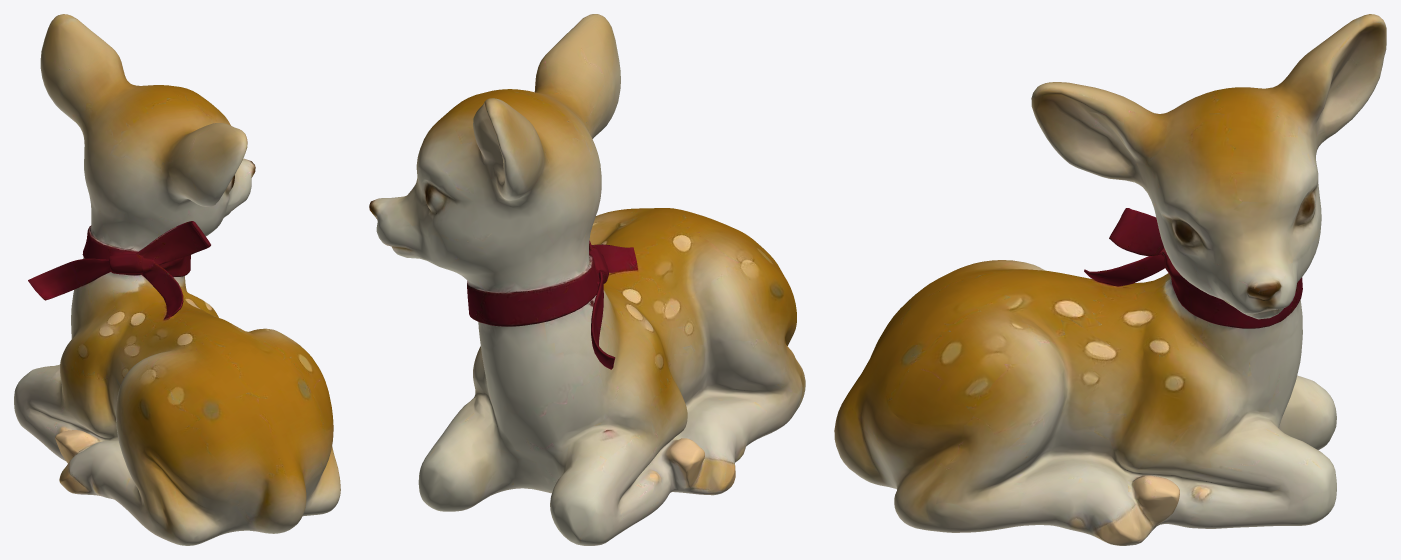
Rendered from fawn.glb.
3 views of the same model, side by side, from view 1: azimuth 30°, elevation 25°; view 2: azimuth 150°, elevation 25°; view 3: azimuth 270°, elevation 25° (orthographic). The views are drawn at different scales.
Bounding box in the file's own units: 1.27 × 1.87 × 2.
1 material, 1 textured.
